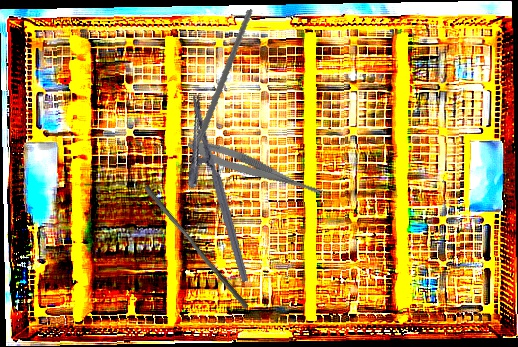Chopper: (150, 9, 278, 167)
Micro Scissor: (184, 134, 332, 203)
Needle Holder: (165, 94, 251, 290)
Pusher: (139, 184, 254, 310)
